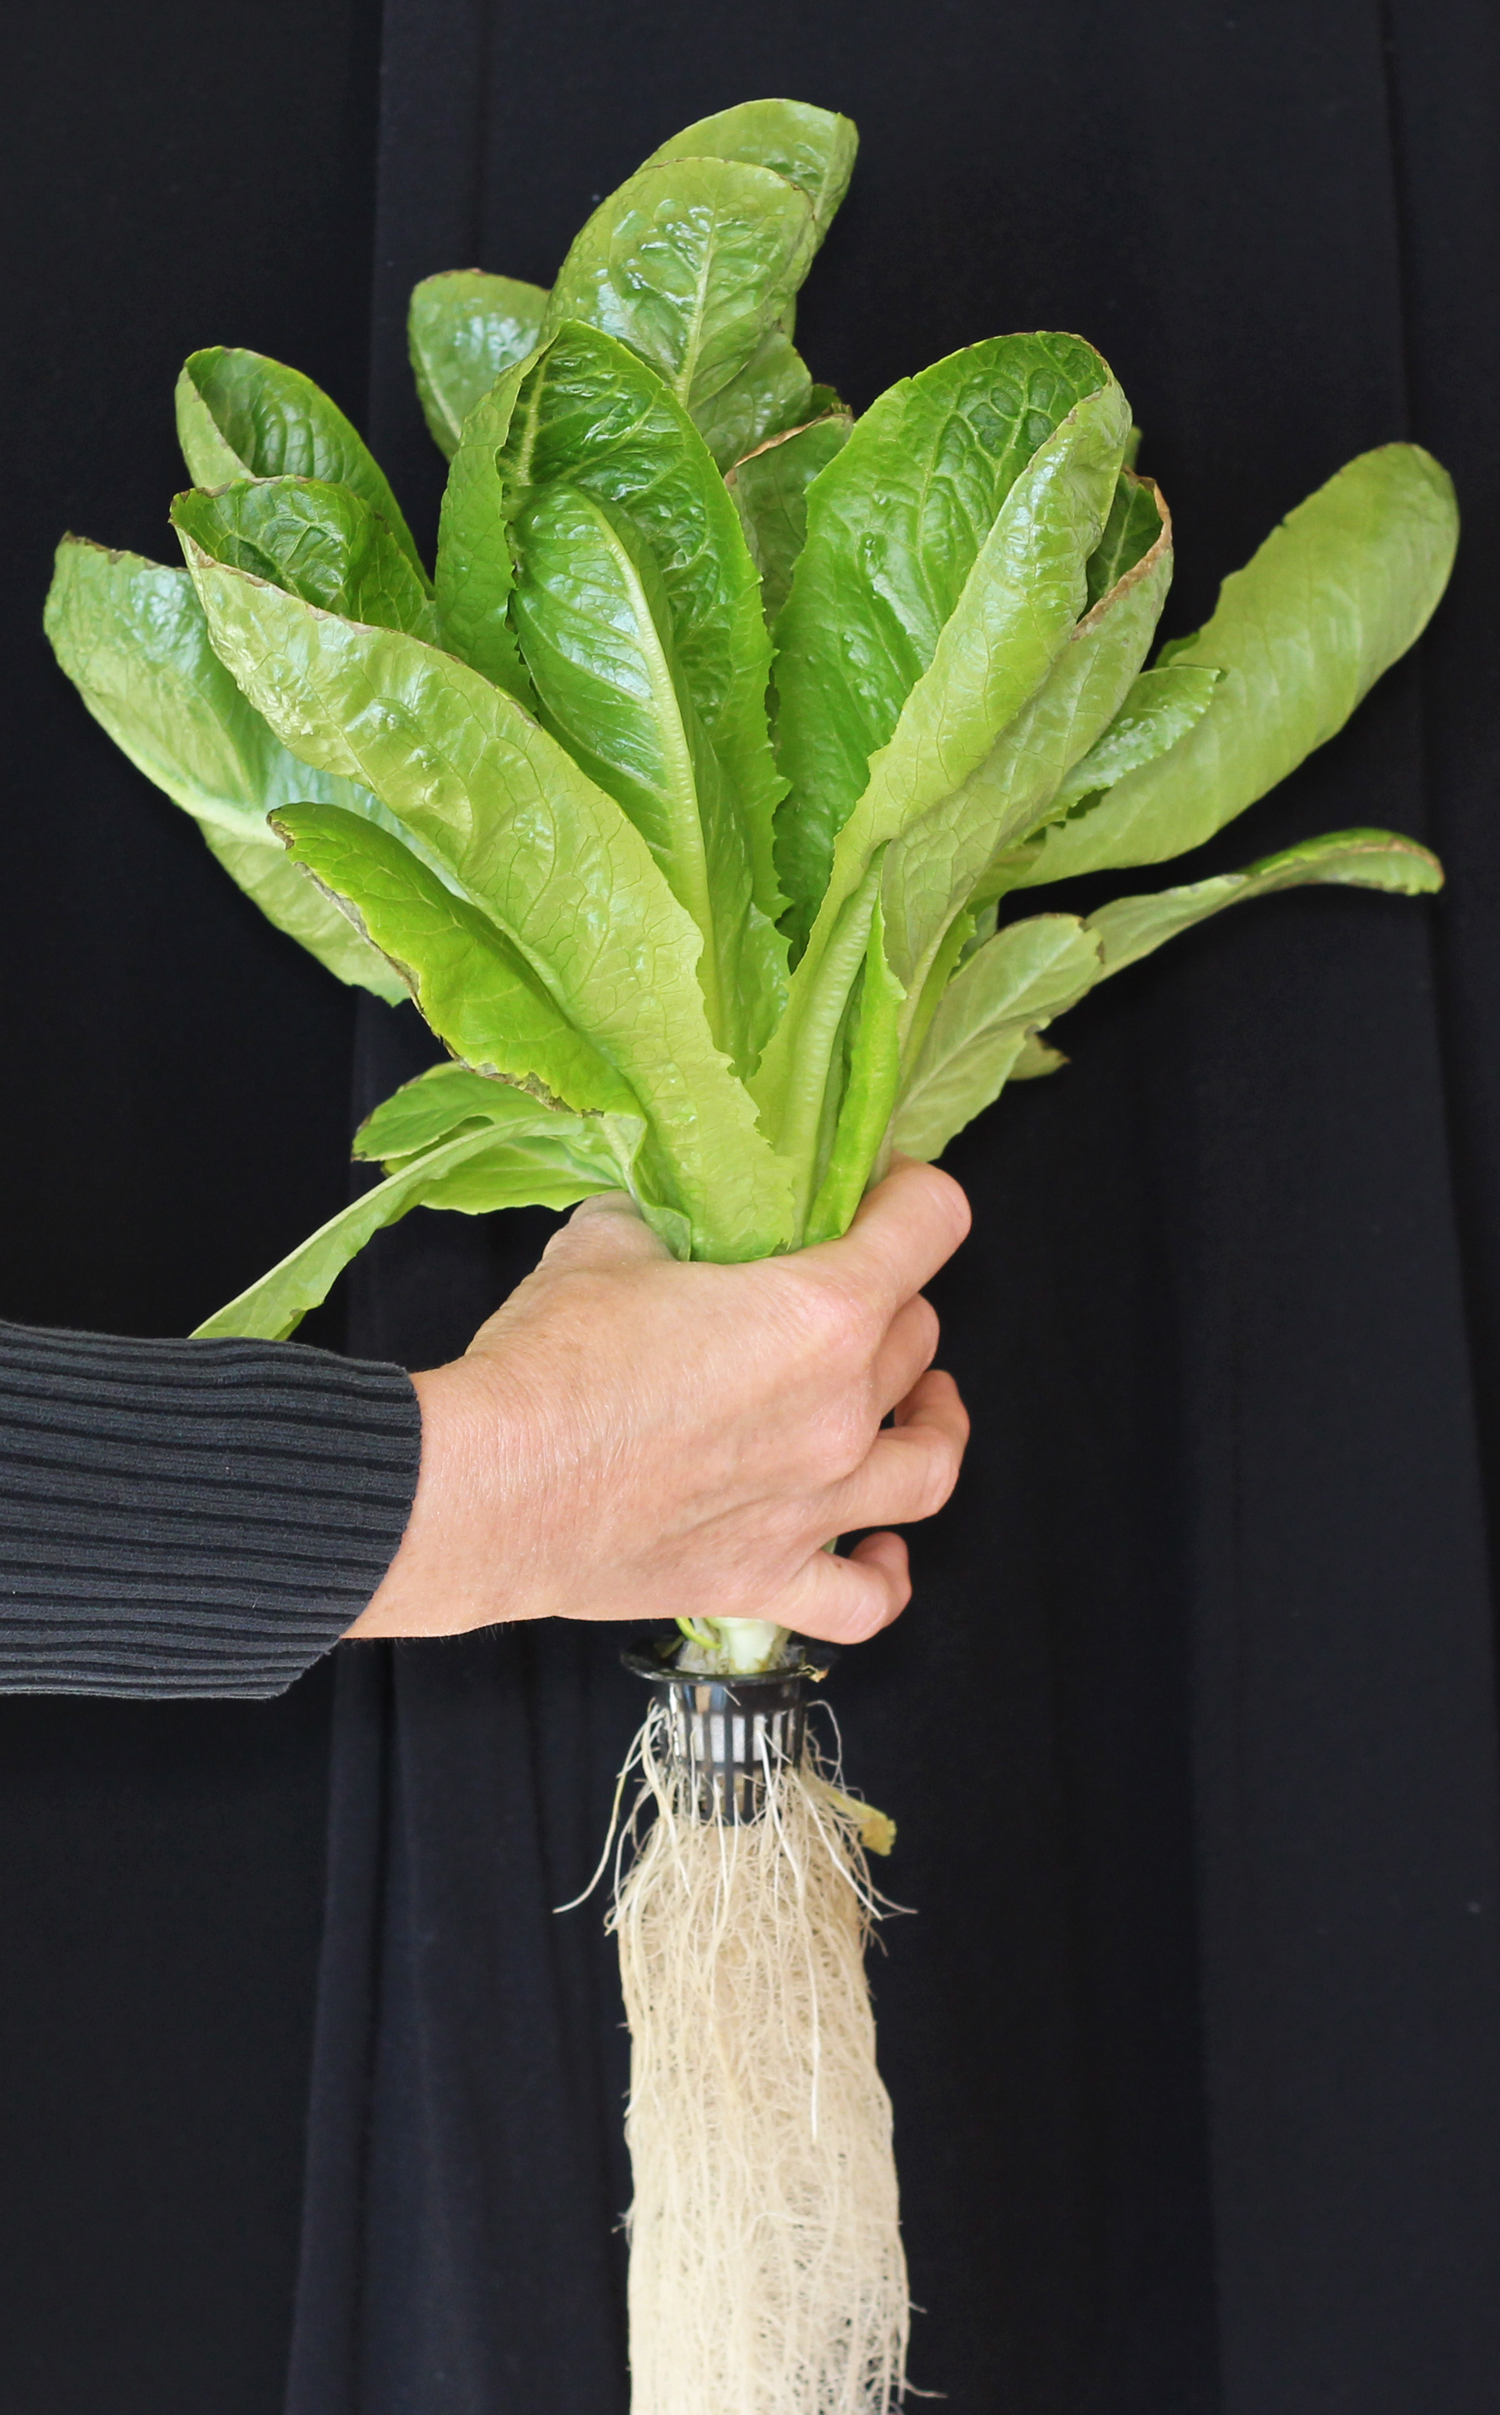basket: (577, 1622, 861, 1859)
